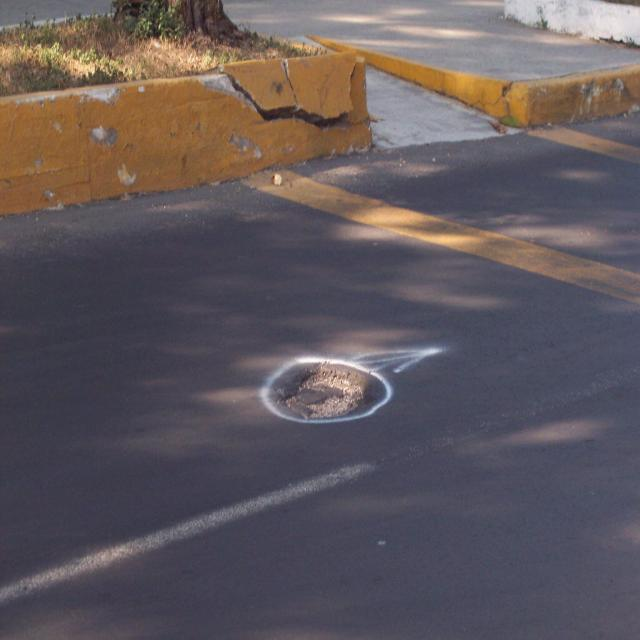Pothole: (250, 334, 448, 464)
